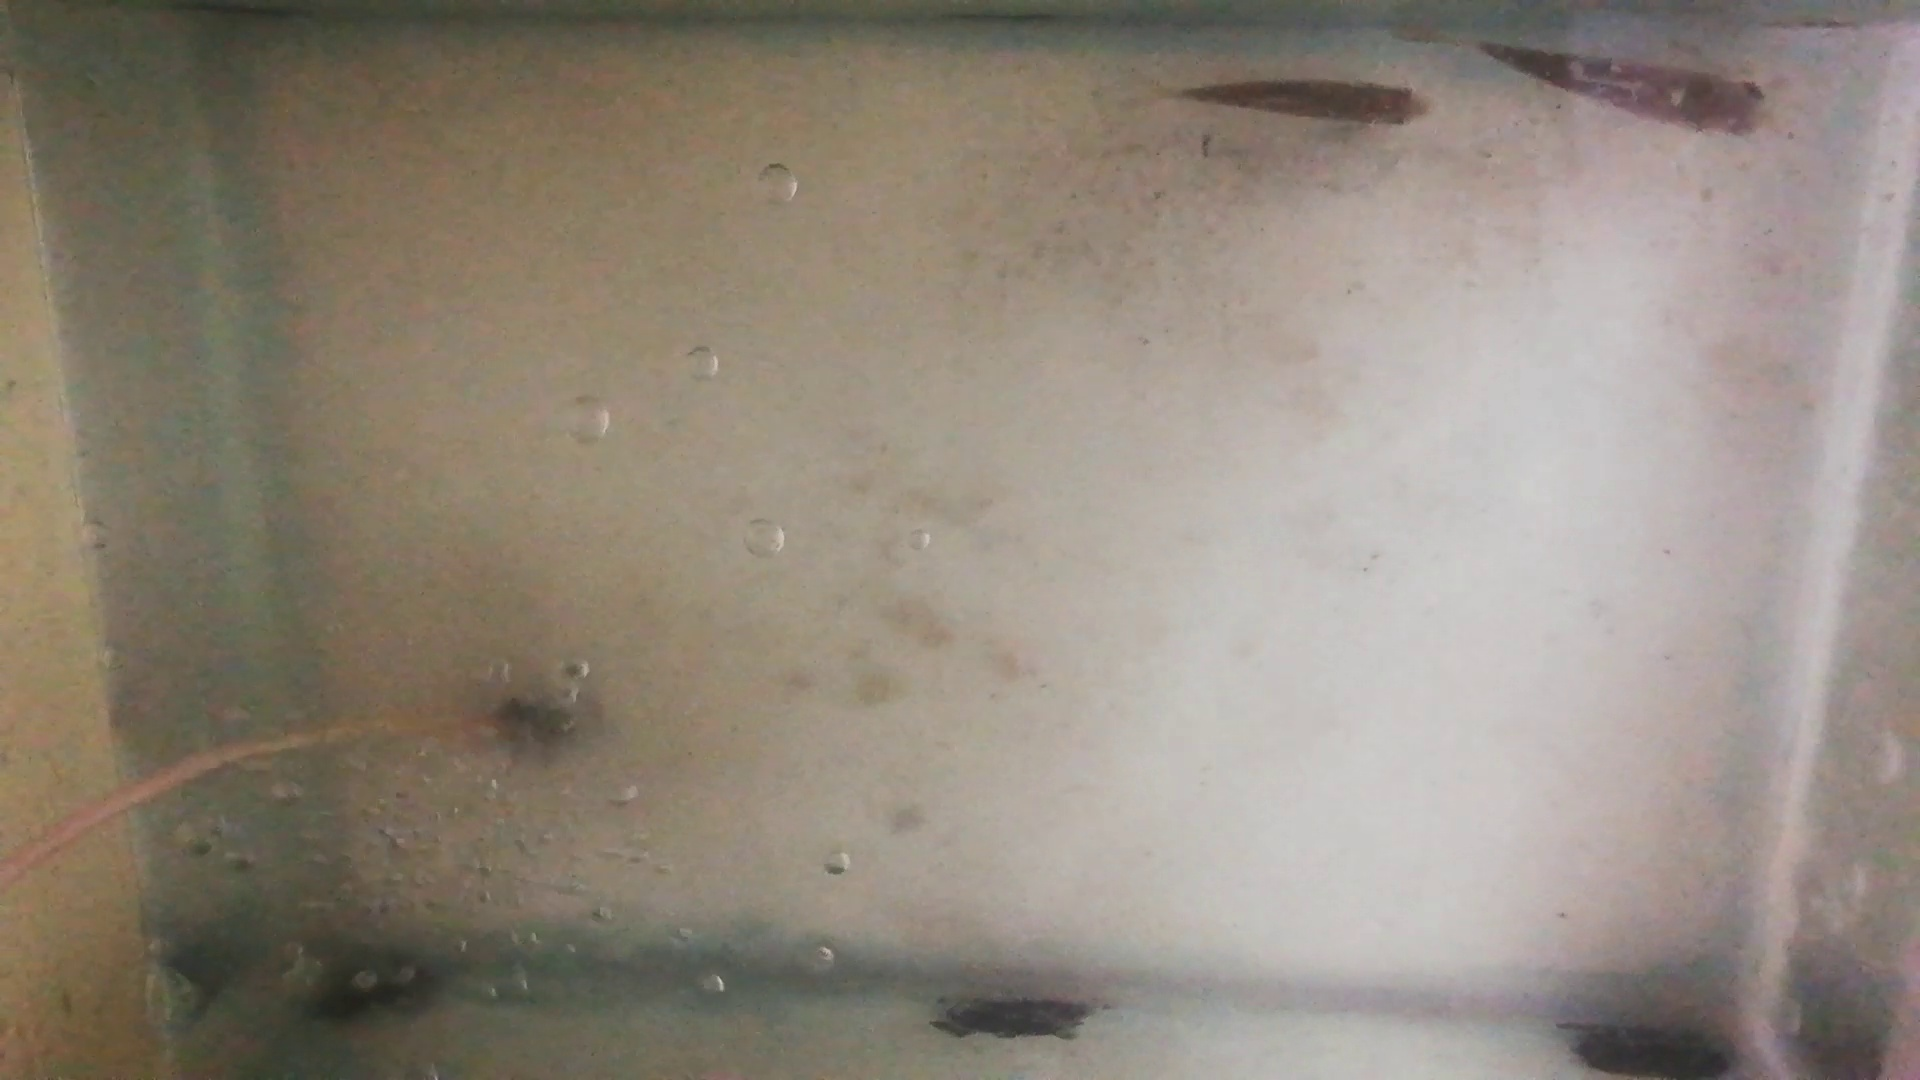fish: (1477, 36, 1774, 138), (1179, 75, 1432, 131)
